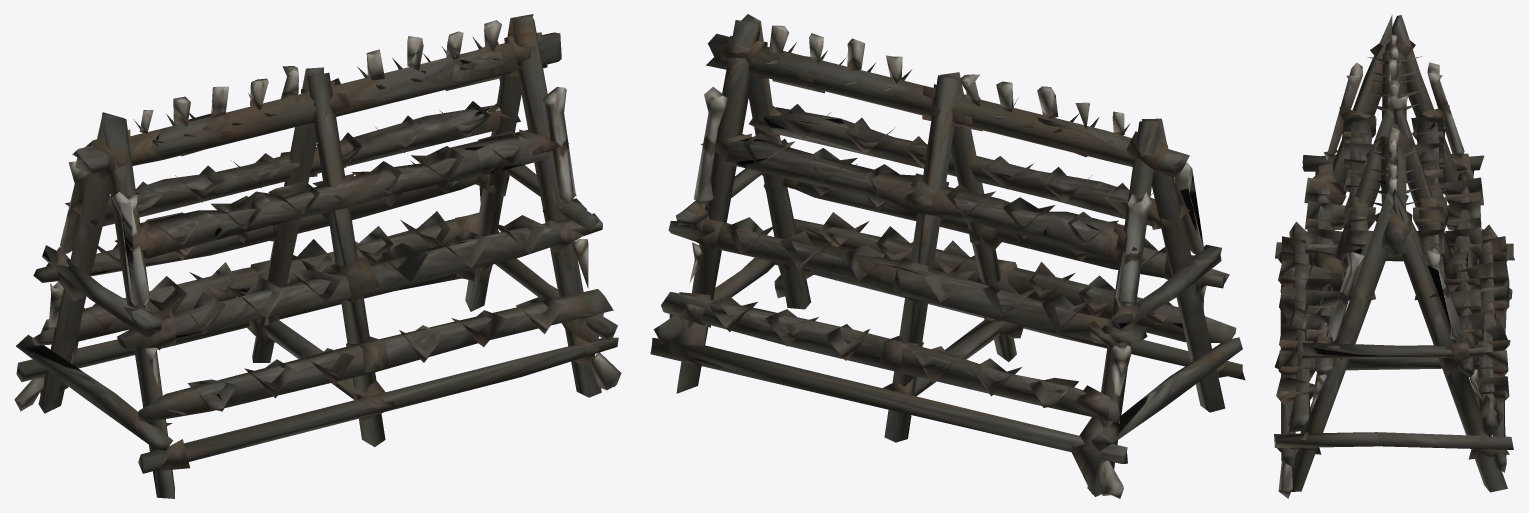
Rendered from KolossBarricada.glb.
3 renders of one model, left to right at view 1: azimuth 30°, elevation 25°; view 2: azimuth 150°, elevation 25°; view 3: azimuth 270°, elevation 25°, orthographic. The views are drawn at different scales.
Visible parts, largest first — view 1: KolossBarricada; view 2: KolossBarricada; view 3: KolossBarricada.
Part boxes in pixels (<box>): KolossBarricada: <box>14,14,621,498</box>; KolossBarricada: <box>650,14,1245,498</box>; KolossBarricada: <box>1274,15,1514,498</box>.
Size of the model in its own units: 3.84 by 2.6 by 1.9.
Materials: 1 (1 with a texture image).
